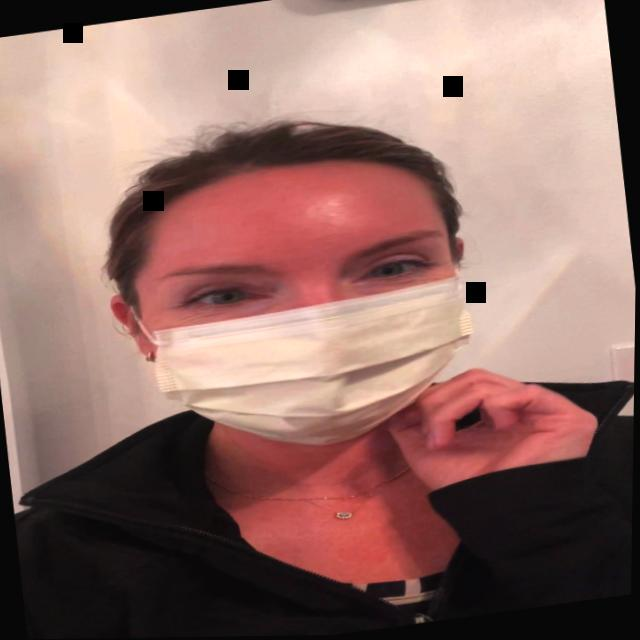Mask: (100, 131, 490, 472)
